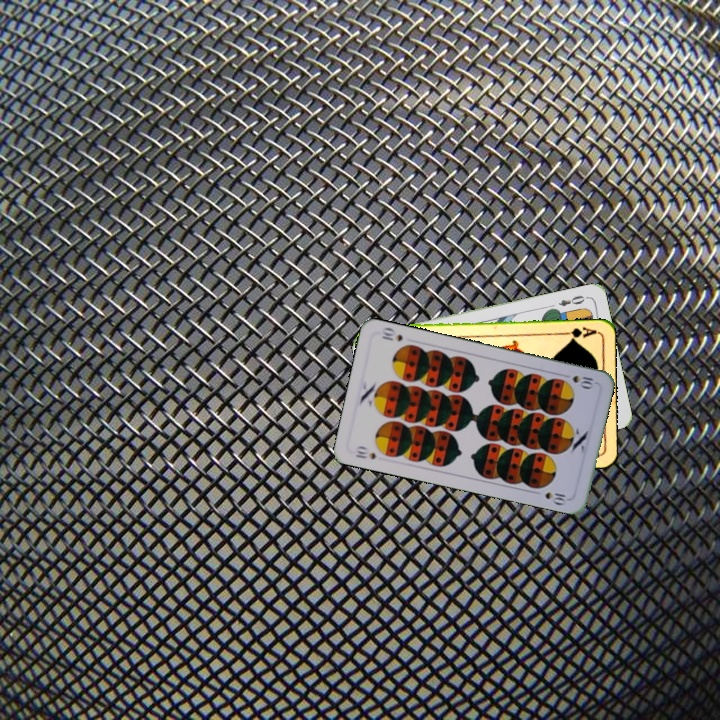EO: (555, 291, 587, 309)
GA: (558, 323, 599, 343)
S10: (558, 370, 598, 391), (351, 442, 378, 462)
